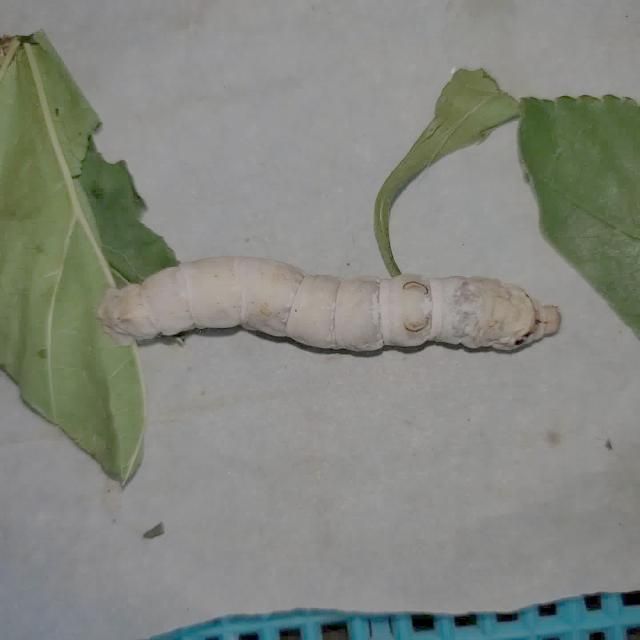Grasserie: (91, 225, 568, 401)
